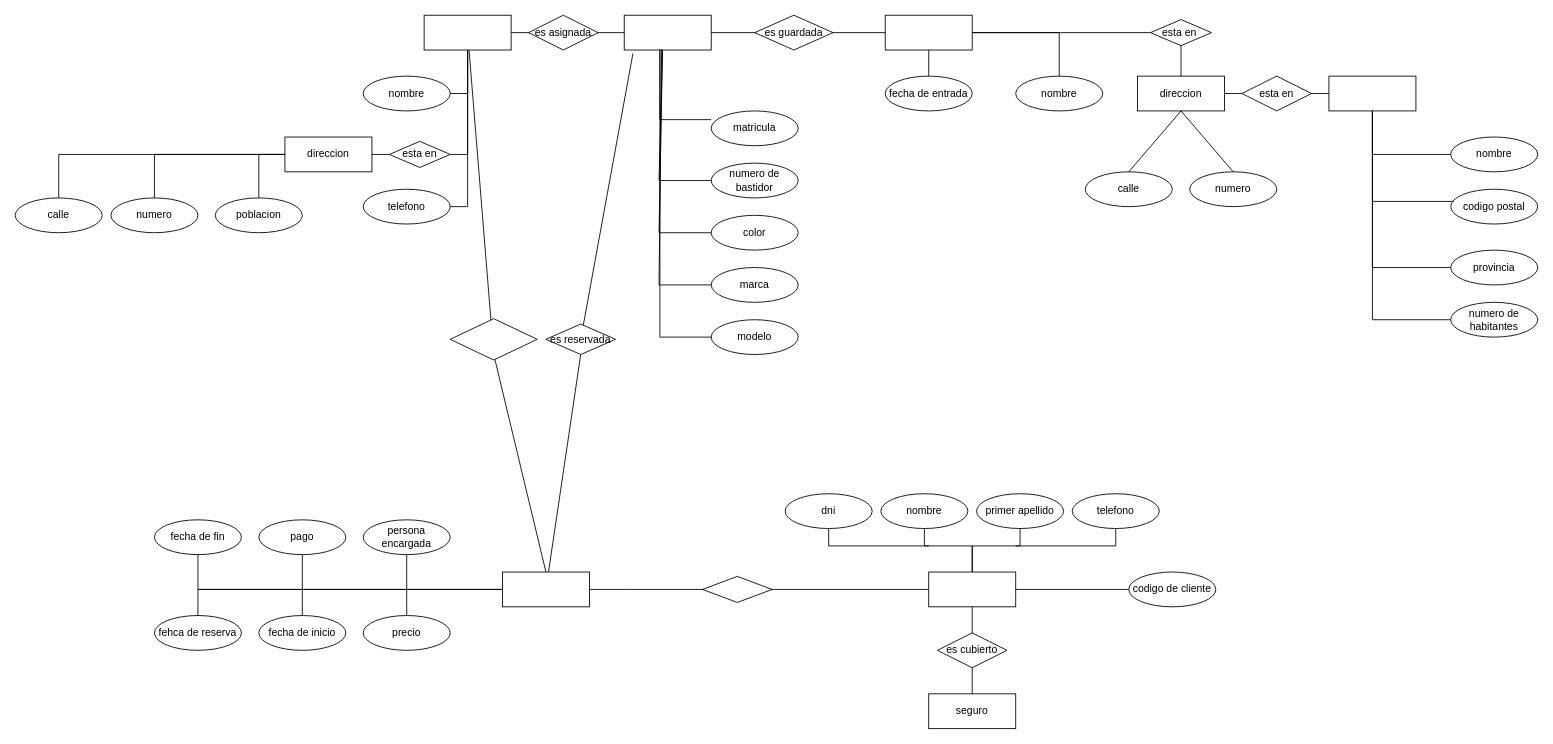
This 1553x744 diagram has some shape labels left out. Here are the shapes that lost their labels. From the top down, the centre of each, then its label:
(467,32): agencia
(667,32): motocicleta
(928,32): garaje
(1372,93): ciudad
(493,339): es agencida por
(545,589): reserva
(737,589): realiza
(972,589): clientes
